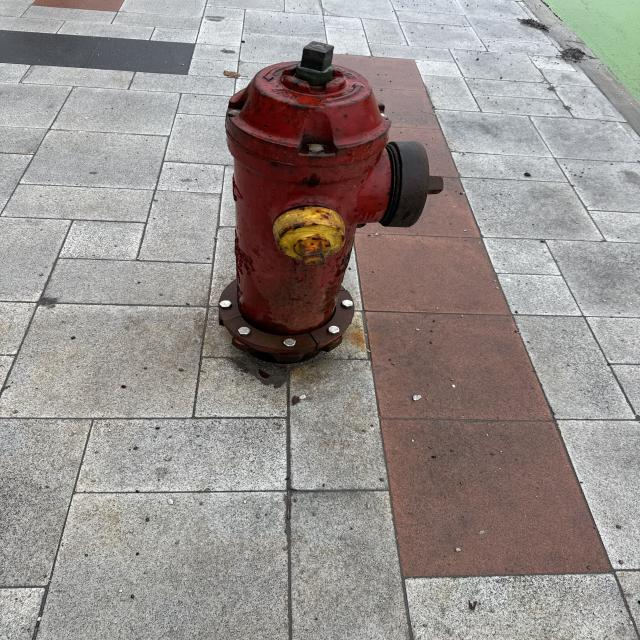Fire hydrant: (216, 40, 445, 362)
